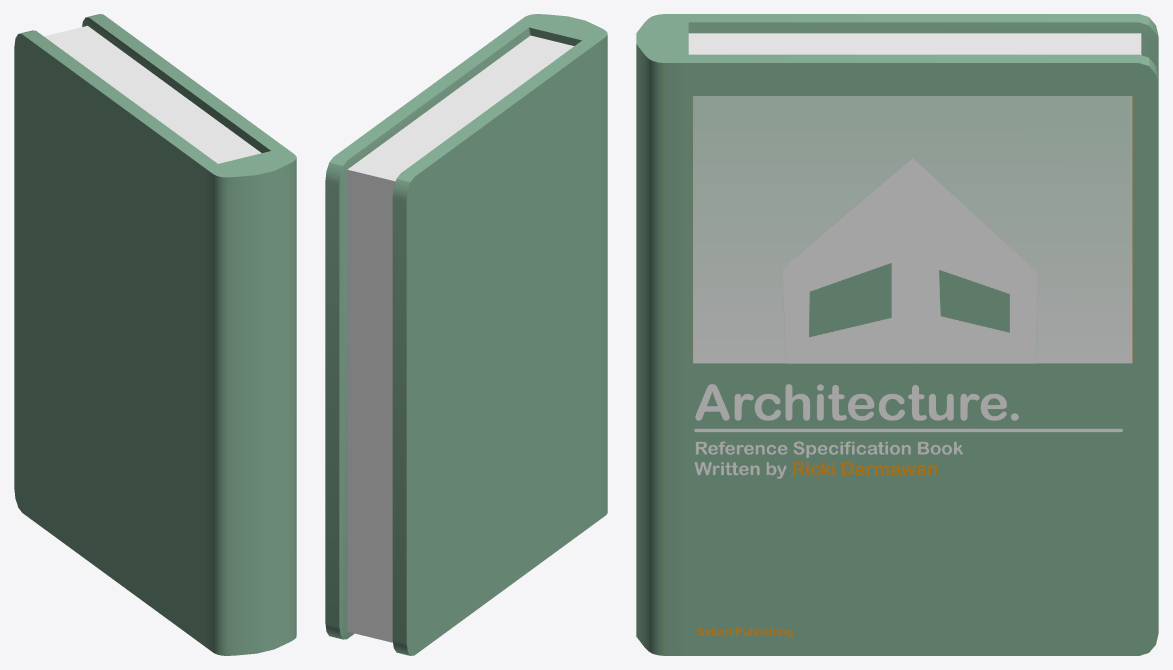
Rendered from book.fbx.
3 views of the same model, side by side, from view 1: azimuth 30°, elevation 25°; view 2: azimuth 150°, elevation 25°; view 3: azimuth 270°, elevation 25° (orthographic). The views are drawn at different scales.
Parts seen in each view (by area): view 1: book; view 2: book; view 3: book.
Part boxes in pixels (x1,y1,x2,y2): book: (14, 14, 296, 655); book: (325, 14, 607, 655); book: (636, 14, 1158, 655).
Bounding box in the file's own units: 4.09 × 23.02 × 18.37.
Materials: 1 (1 with a texture image).
